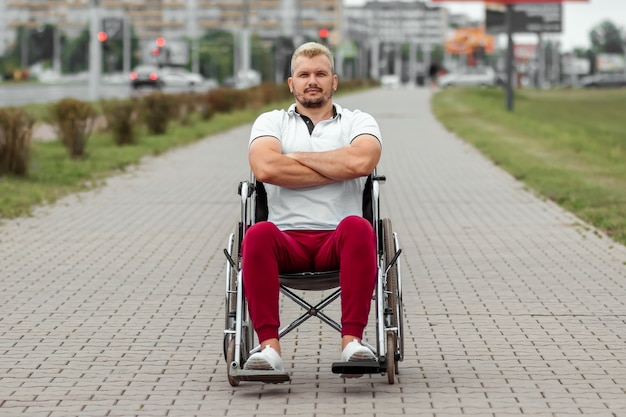wheelchair: (222, 43, 405, 382)
